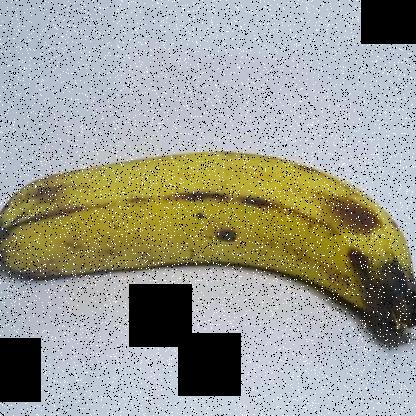ripe: (1, 140, 415, 344)
